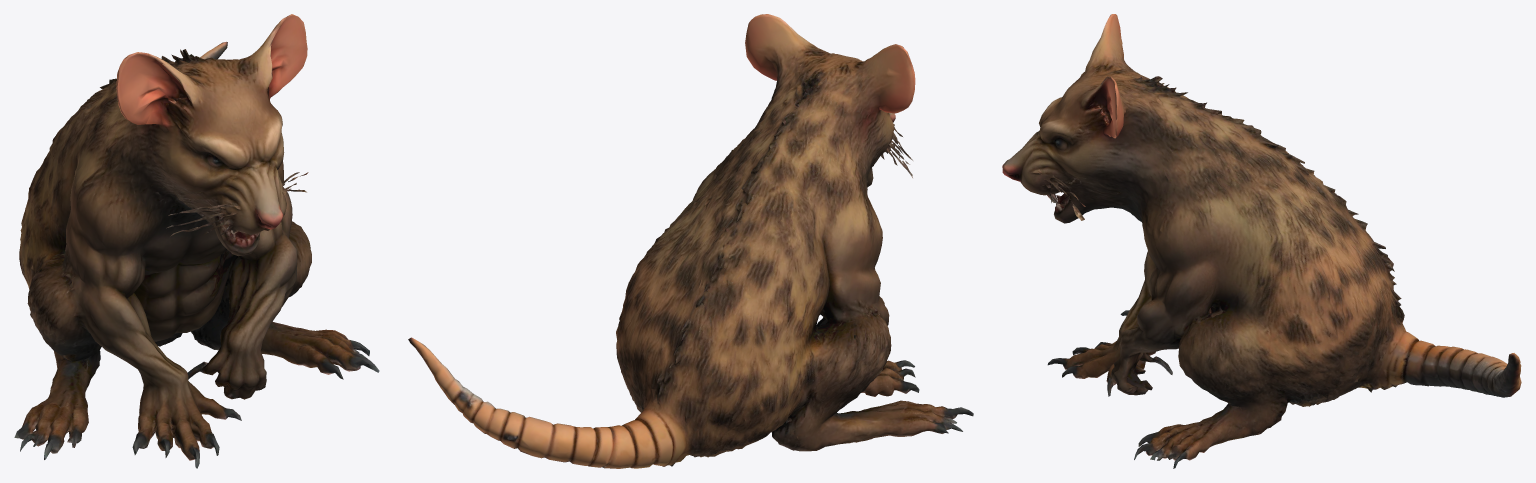
The model's file is monster_91.glb.
3 renders of one model, left to right at view 1: azimuth 30°, elevation 25°; view 2: azimuth 150°, elevation 25°; view 3: azimuth 270°, elevation 25°, orthographic. The views are drawn at different scales.
Visible parts, largest first — view 1: Rat_Overlord_1102155447_texture; view 2: Rat_Overlord_1102155447_texture; view 3: Rat_Overlord_1102155447_texture.
Part boxes in pixels (x1=…): Rat_Overlord_1102155447_texture: x1=14, y1=14, x2=379, y2=468; Rat_Overlord_1102155447_texture: x1=408, y1=14, x2=973, y2=468; Rat_Overlord_1102155447_texture: x1=1002, y1=14, x2=1521, y2=468.
Size of the model in its own units: 1.52 by 1.39 by 1.9.
1 material, 1 textured.
